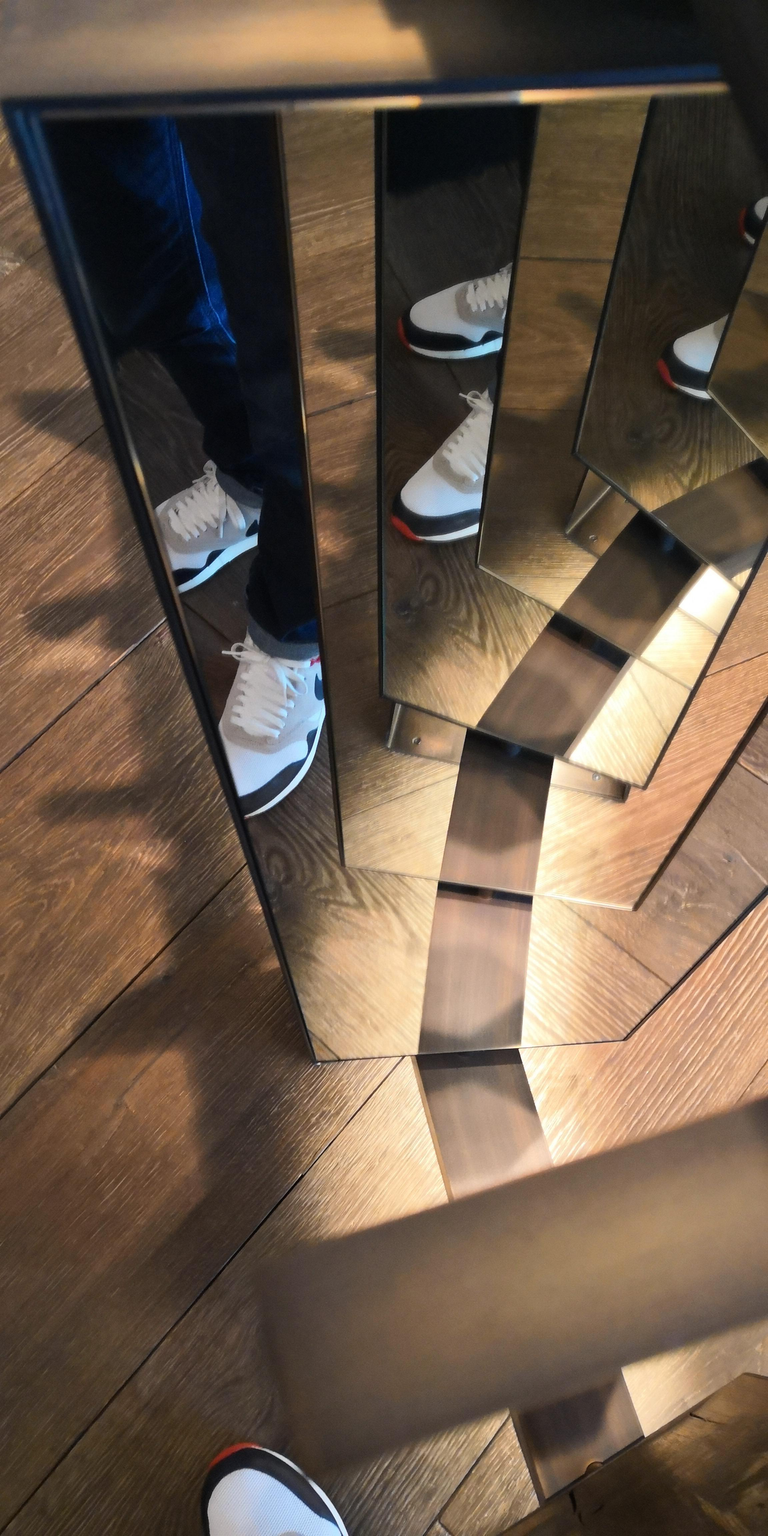sneaker: (201, 610, 378, 843), (368, 377, 547, 577), (378, 243, 560, 377), (125, 440, 271, 603), (171, 1413, 364, 1536), (661, 293, 757, 430)
